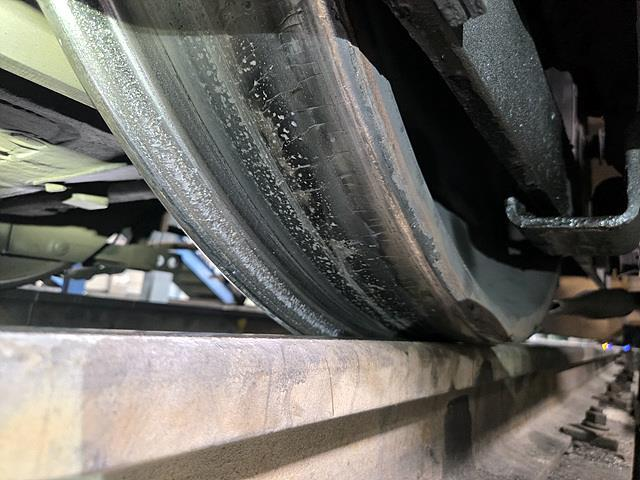Cracks-Scratches: (272, 6, 341, 147), (341, 160, 409, 266)
